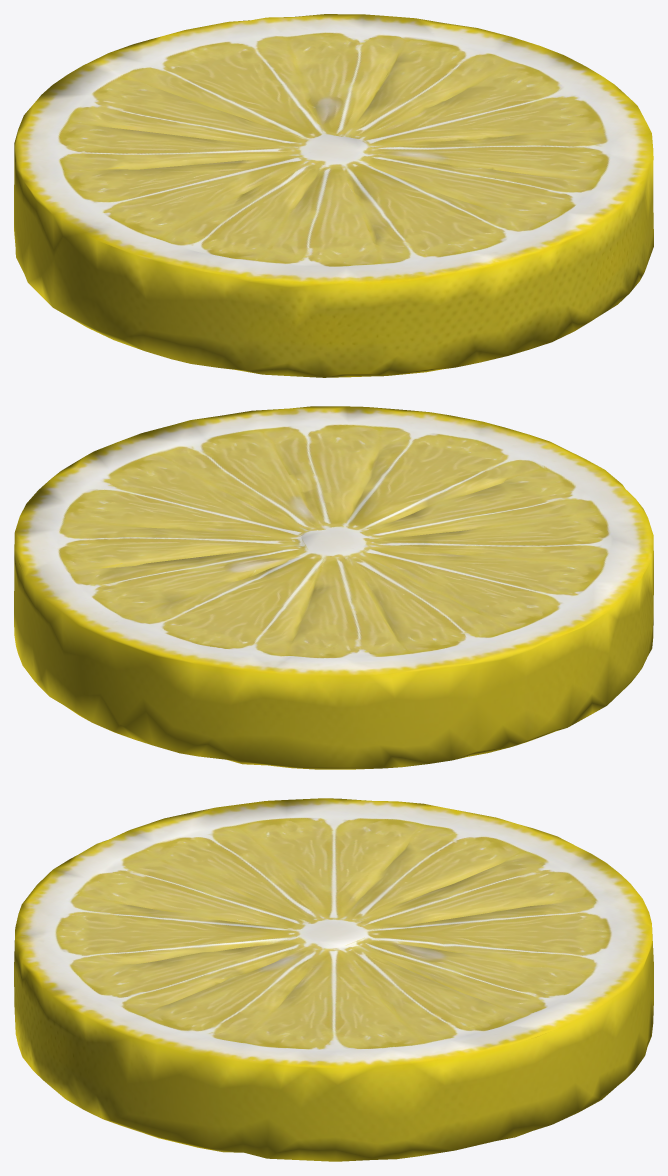
Rendered from lemon (1).glb.
3 views of the same model, one above another, from view 1: azimuth 30°, elevation 25°; view 2: azimuth 150°, elevation 25°; view 3: azimuth 270°, elevation 25° (orthographic).
Visible parts, largest first — view 1: Mesh10; view 2: Mesh10; view 3: Mesh10.
Boxes of the visible parts, <box> form: Mesh10: <box>14,14,653,377</box>; Mesh10: <box>14,406,653,769</box>; Mesh10: <box>14,798,653,1161</box>.
Bounding box in the file's own units: 1.91 × 0.3115 × 1.91.
1 material, 1 textured.
